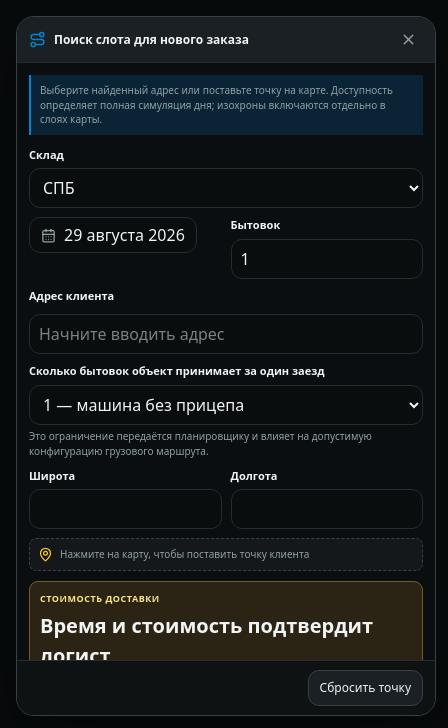
Test: dispatcher slot availability panel › resolves a navigator-like suggestion into both address and coordinates
Type "Невский" into the field named "Адрес нового клиента" at (226, 334), box [29,314,423,354]
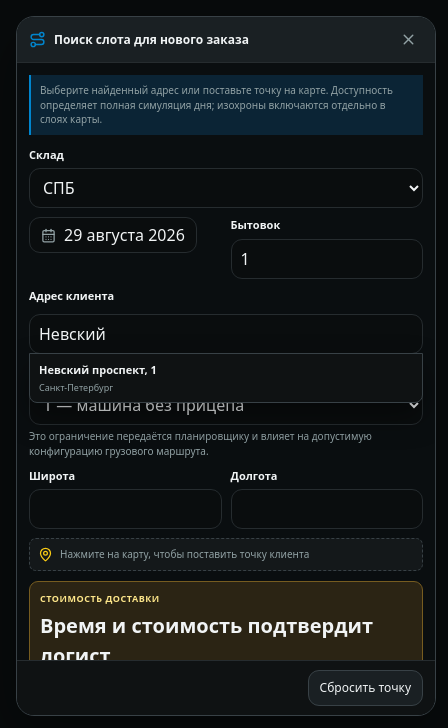
Click the option "Невский проспект, 1 Санкт-Петербург" at (98, 370), box [30,354,422,402]
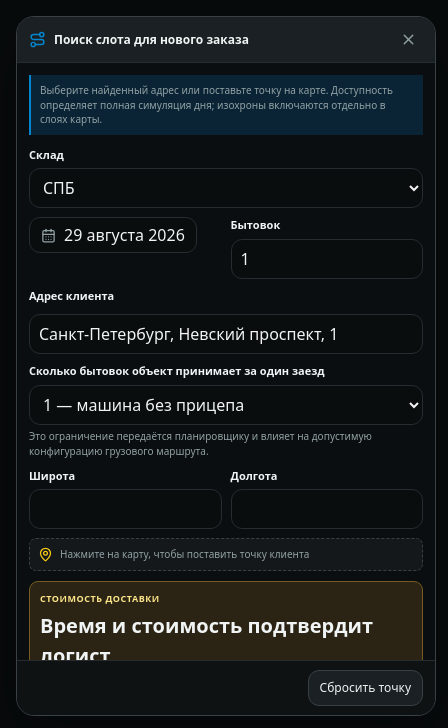
Expected: the field named "Адрес нового клиента" holds "Санкт-Петербург, Невский проспект, 1", [29,314,423,354]
